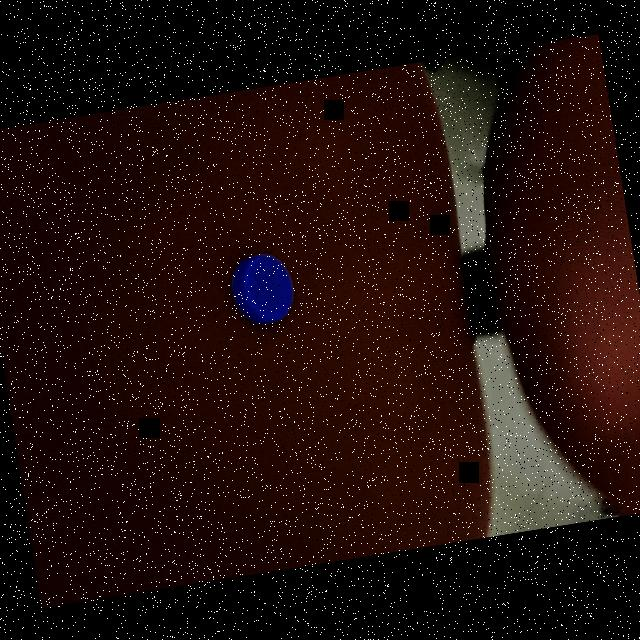plastic_bottle_cap: (222, 235, 302, 334)
